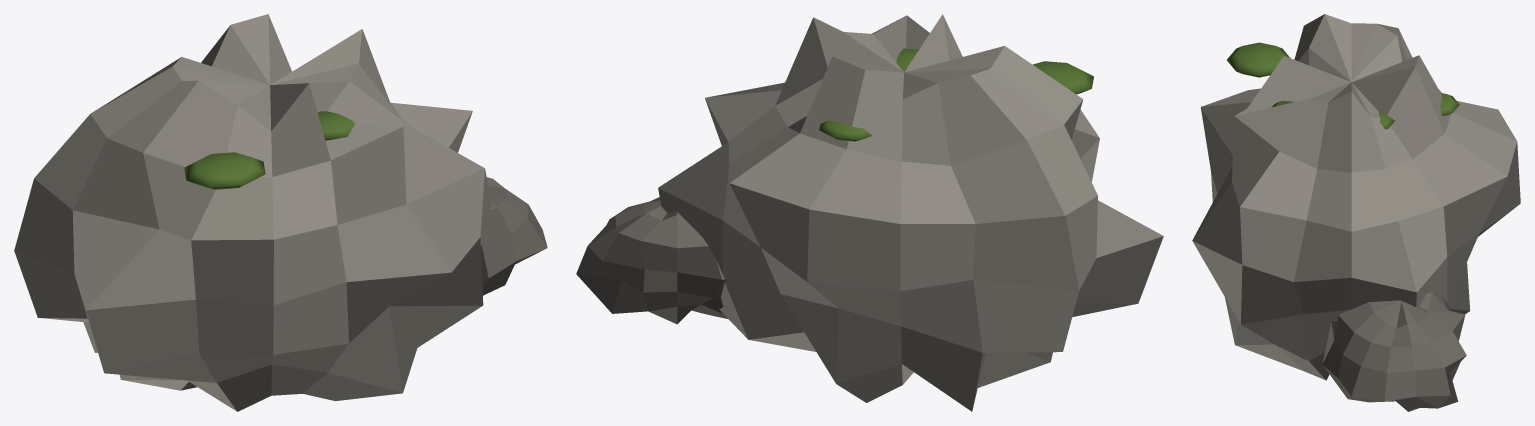
Rendered from feldstein_3.glb.
3 views of the same model, side by side, from view 1: azimuth 30°, elevation 25°; view 2: azimuth 150°, elevation 25°; view 3: azimuth 270°, elevation 25° (orthographic). The views are drawn at different scales.
Visible parts, largest first — view 1: Sphere; view 2: Sphere; view 3: Sphere.
Part boxes in pixels (x1,y1,x2,y2): Sphere: (14, 14, 547, 411); Sphere: (576, 14, 1163, 411); Sphere: (1192, 14, 1520, 411).
Bounding box in the file's own units: 2.15 × 1.37 × 1.38.
